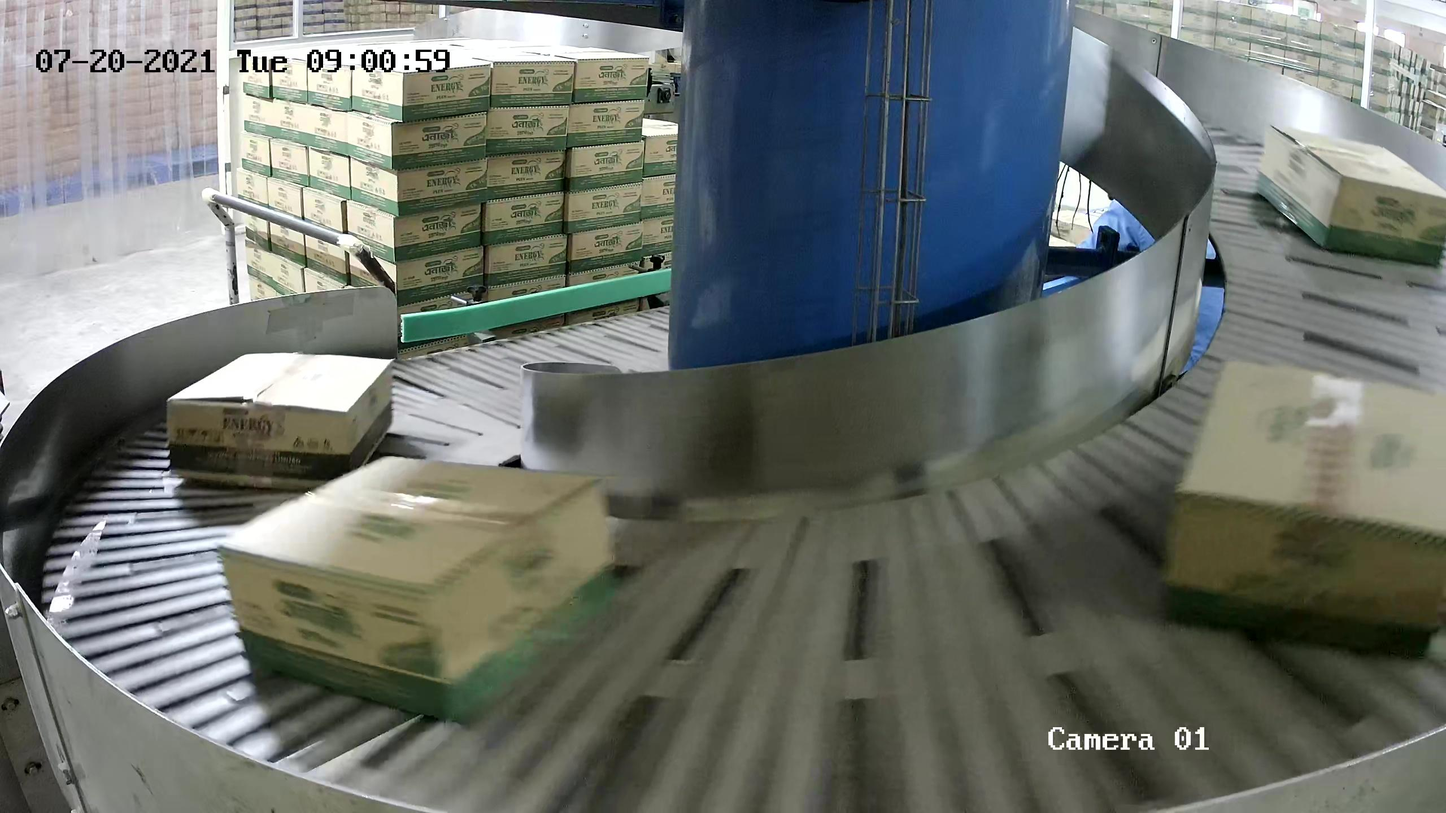Box: (214, 455, 615, 727), (1150, 356, 1446, 664), (165, 351, 399, 493), (1255, 121, 1446, 268)
